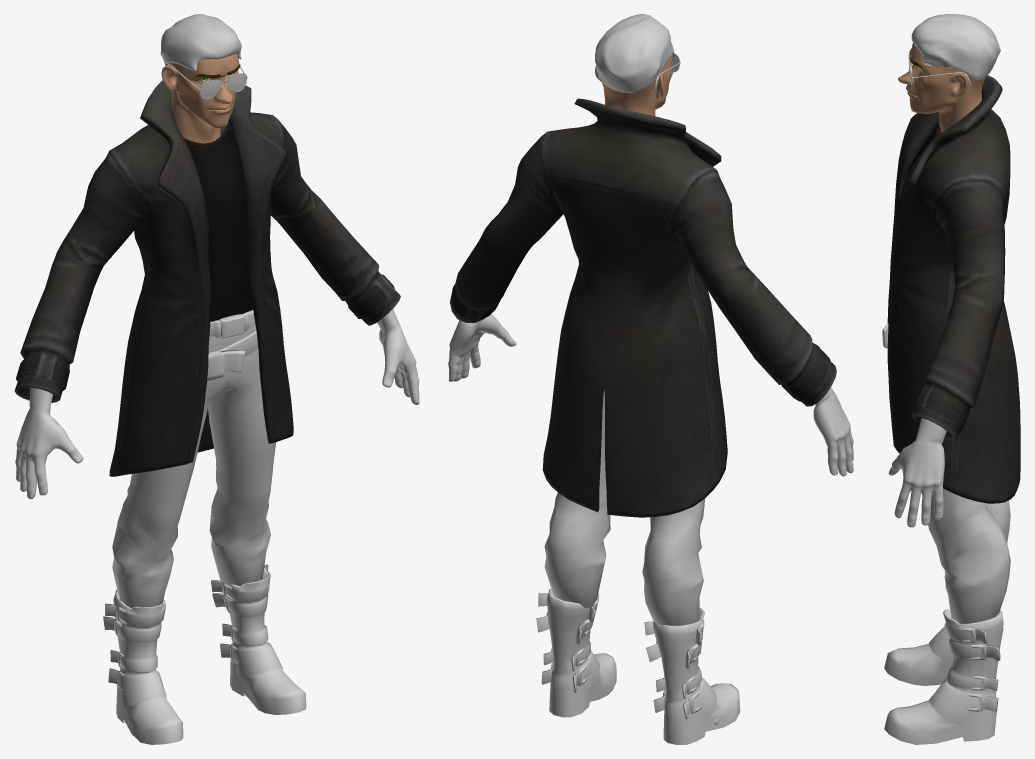
Rendered from M Character 15.fbx.
3 views of the same model, side by side, from view 1: azimuth 30°, elevation 25°; view 2: azimuth 150°, elevation 25°; view 3: azimuth 270°, elevation 25° (orthographic).
Visible parts, largest first — view 1: Wolf3D_Outfit_Top.010, Wolf3D_Outfit_Bottom.012, Wolf3D_Outfit_Footwear.011, m_body.001, m_head, Wolf3D_Hair.008, Wolf3D_Glasses.006; view 2: Wolf3D_Outfit_Top.010, Wolf3D_Outfit_Footwear.011, Wolf3D_Outfit_Bottom.012, Wolf3D_Hair.008, m_body.001, m_head; view 3: Wolf3D_Outfit_Top.010, Wolf3D_Outfit_Footwear.011, Wolf3D_Outfit_Bottom.012, Wolf3D_Hair.008, m_body.001, m_head.
Boxes of the visible parts, box(x1,y1,x2,y2) form: Wolf3D_Outfit_Top.010: box(14, 80, 400, 476); Wolf3D_Outfit_Bottom.012: box(112, 310, 275, 607); Wolf3D_Outfit_Footwear.011: box(103, 564, 306, 744); m_body.001: box(15, 309, 419, 499); m_head: box(161, 53, 240, 143); Wolf3D_Hair.008: box(160, 14, 241, 71); Wolf3D_Glasses.006: box(167, 64, 247, 99); Wolf3D_Outfit_Top.010: box(450, 98, 836, 517); Wolf3D_Outfit_Footwear.011: box(536, 589, 740, 744); Wolf3D_Outfit_Bottom.012: box(544, 388, 704, 625); Wolf3D_Hair.008: box(595, 14, 673, 92); m_body.001: box(448, 314, 853, 476); m_head: box(595, 52, 673, 115); Wolf3D_Outfit_Top.010: box(887, 75, 1020, 503); Wolf3D_Outfit_Footwear.011: box(884, 571, 1003, 744); Wolf3D_Outfit_Bottom.012: box(882, 323, 1010, 623); Wolf3D_Hair.008: box(911, 14, 1000, 79); m_body.001: box(888, 423, 946, 527); m_head: box(898, 43, 985, 132).
Bounding box in the file's own units: 117 × 198 × 36.04.
